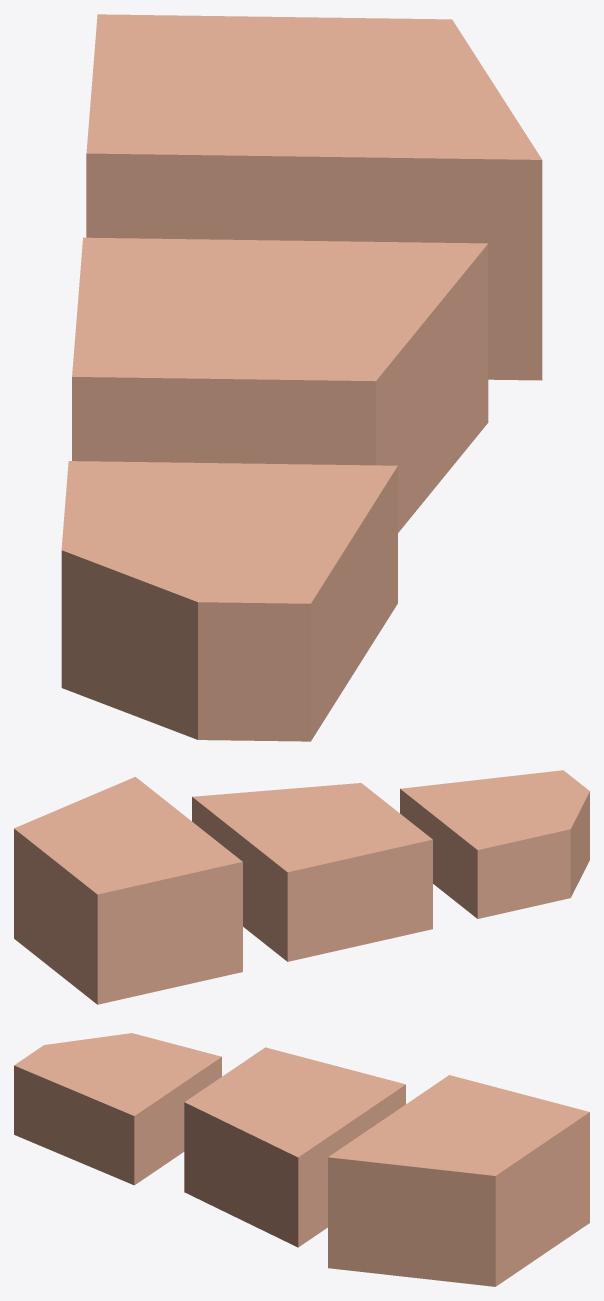
File: buildings_v1-9eab271e1c12.glb
3 renders of one model, top to bottom at view 1: azimuth 30°, elevation 25°; view 2: azimuth 150°, elevation 25°; view 3: azimuth 270°, elevation 25°, orthographic. The views are drawn at different scales.
Visible parts, largest first — view 1: mesh; view 2: mesh; view 3: mesh.
Part boxes in pixels (x1,y1,x2,y2): mesh: [61, 14, 542, 741]; mesh: [14, 770, 589, 1004]; mesh: [14, 1033, 589, 1286].
Bounding box in the file's own units: 171 × 48 × 226.
